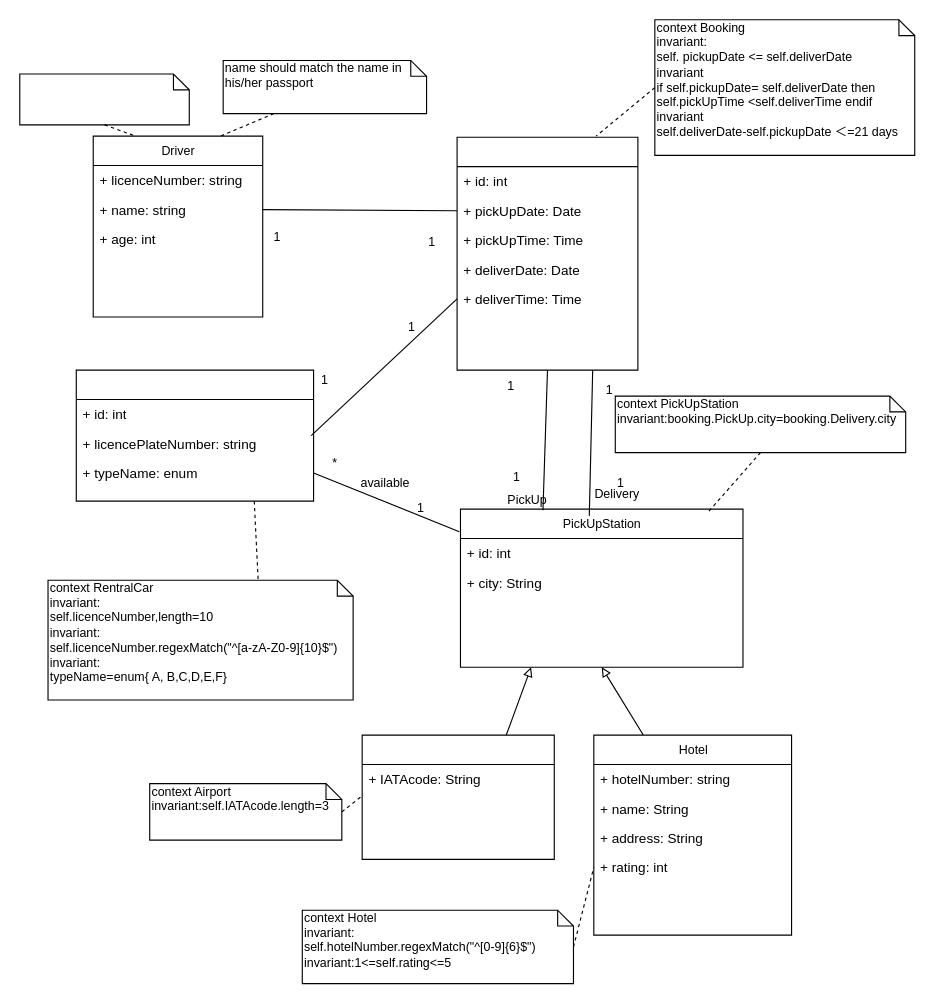
The diagram is 935 pixels wide and 1003 high, and some of its shapes have lost their labels. The box of each missing label's shape, as (x1, y1, x2, y2) in pixels:
Airport: (361, 734, 554, 859)
Booking: (456, 136, 638, 370)
context Driver invariant:self.age >= 25: (19, 73, 189, 125)
RentalCar: (75, 369, 314, 501)
